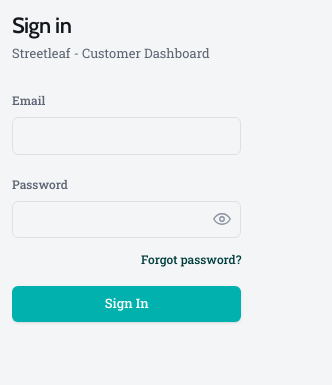
Test: SignInForm › shows required errors for empty email and password on submit
What coordinates should you click on to do the following:
click the button "Sign In"
I would click on:
 (127, 304)
Its box is [12, 286, 241, 322].
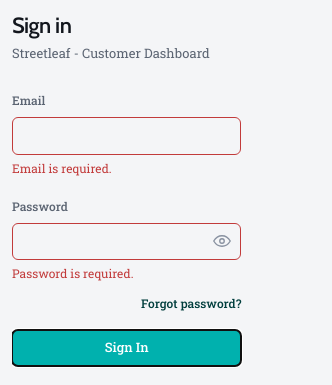
Now the text "Email is required." is shown, box [12, 160, 112, 176]
Now the text "Password is required." is shown, box [12, 265, 134, 281]
